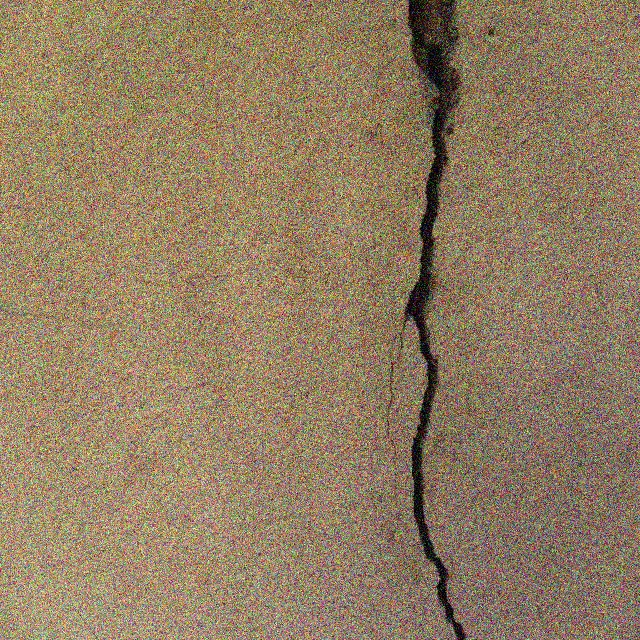SurfaceCrack: (344, 1, 517, 640)
